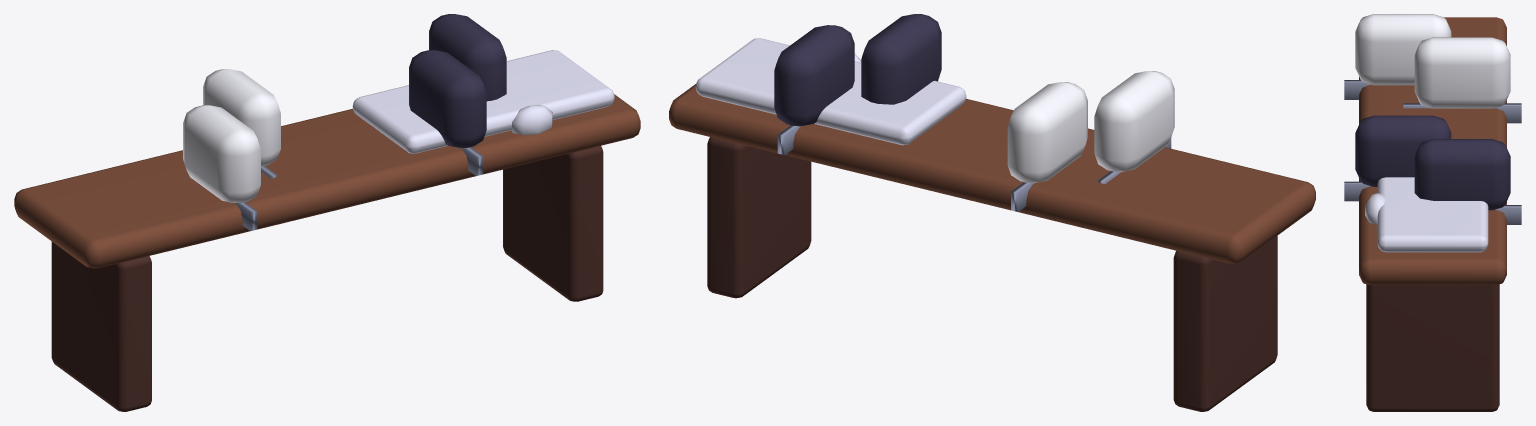
The model's file is frost_skates.glb.
3 renders of one model, left to right at view 1: azimuth 30°, elevation 25°; view 2: azimuth 150°, elevation 25°; view 3: azimuth 270°, elevation 25°, orthographic. The views are drawn at different scales.
Parts seen in each view (by area): view 1: Skates; view 2: Skates; view 3: Skates.
Part boxes in pixels (x1,y1,x2,y2): Skates: (14, 14, 640, 411); Skates: (669, 14, 1315, 411); Skates: (1344, 14, 1521, 411).
Bounding box in the file's own units: 1.6 × 0.7 × 0.48.
